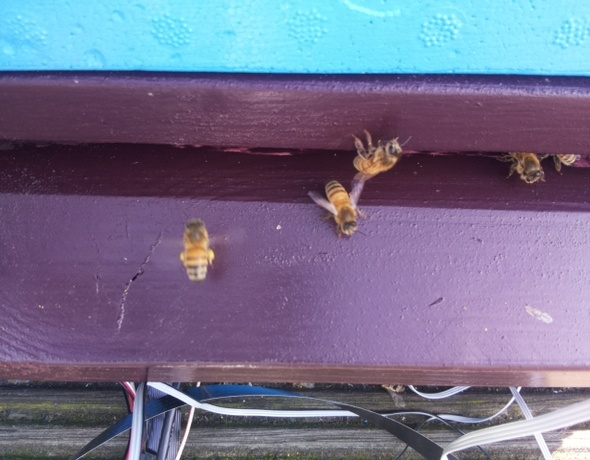no_pollen: (314, 176, 370, 240), (345, 134, 408, 182), (501, 145, 549, 190), (550, 148, 583, 172)
pollen: (178, 216, 217, 285)
